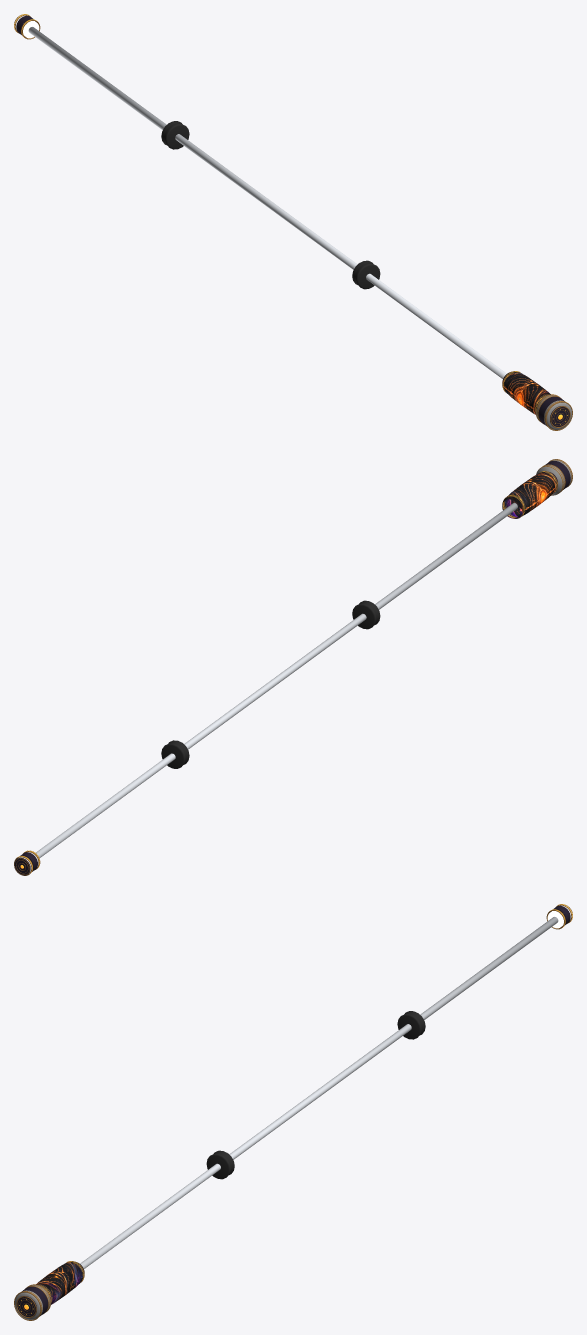
File: fuzeball_rod_3man.glb
The picture shows the model from 3 angles, top to bottom: view 1: azimuth 30°, elevation 25°; view 2: azimuth 150°, elevation 25°; view 3: azimuth 330°, elevation 25°; orthographic projection.
Visible parts, largest first — view 1: rod2_bar.002, rod3_handle_relic, CylinderL, CylinderR; view 2: rod2_bar.002, rod3_handle_relic, CylinderR, CylinderL; view 3: rod2_bar.002, rod3_handle_relic, CylinderL, CylinderR.
Part boxes in pixels (x1,y1,x2,y2): rod2_bar.002: (28, 27, 506, 378); rod3_handle_relic: (502, 371, 550, 414); CylinderL: (352, 260, 380, 289); CylinderR: (161, 121, 189, 149); rod2_bar.002: (35, 503, 517, 858); rod3_handle_relic: (502, 471, 557, 518); CylinderR: (161, 740, 189, 768); CylinderL: (352, 600, 380, 629); rod2_bar.002: (80, 917, 558, 1268); rod3_handle_relic: (36, 1261, 84, 1304); CylinderL: (206, 1150, 234, 1179); CylinderR: (397, 1011, 425, 1039).
Bounding box in the file's own units: 3.49 × 3.49 × 119.
8 materials, 1 textured.
